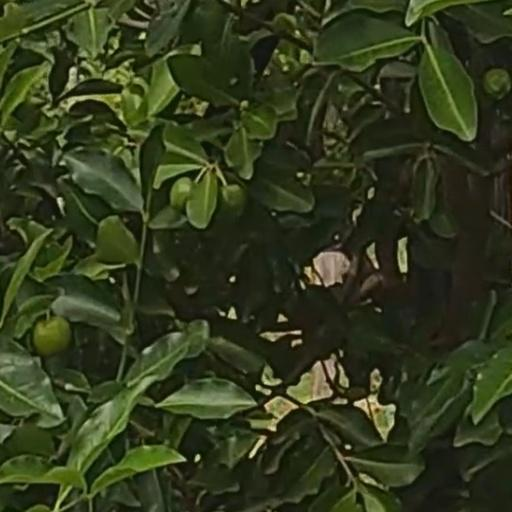acerola: (33, 318, 71, 356), (171, 178, 193, 210)
